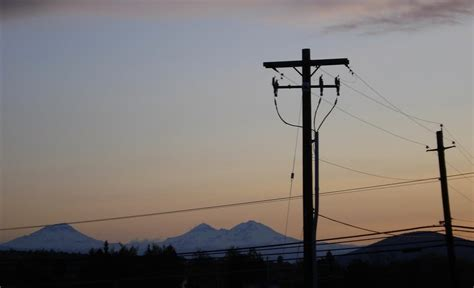pole: (253, 38, 372, 266)
